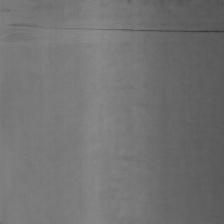crease: (20, 15, 224, 41)
